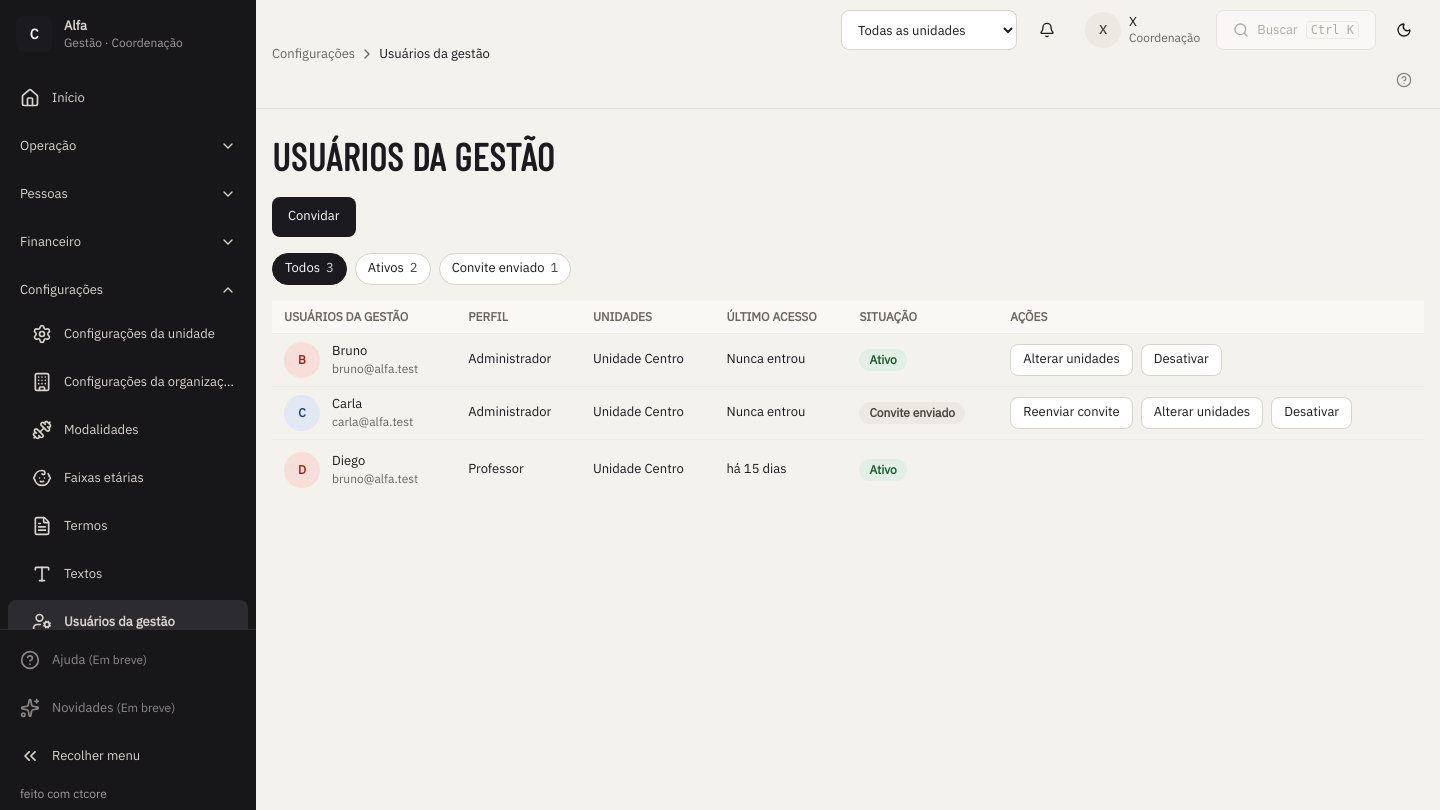
Test: UsersPage › CA8: os filtros rápidos mostram a contagem e filtram a tabela por situação
Click the button with aria-label "Convite enviado, 1" at x=505, y=268, box [439,252,571,284]
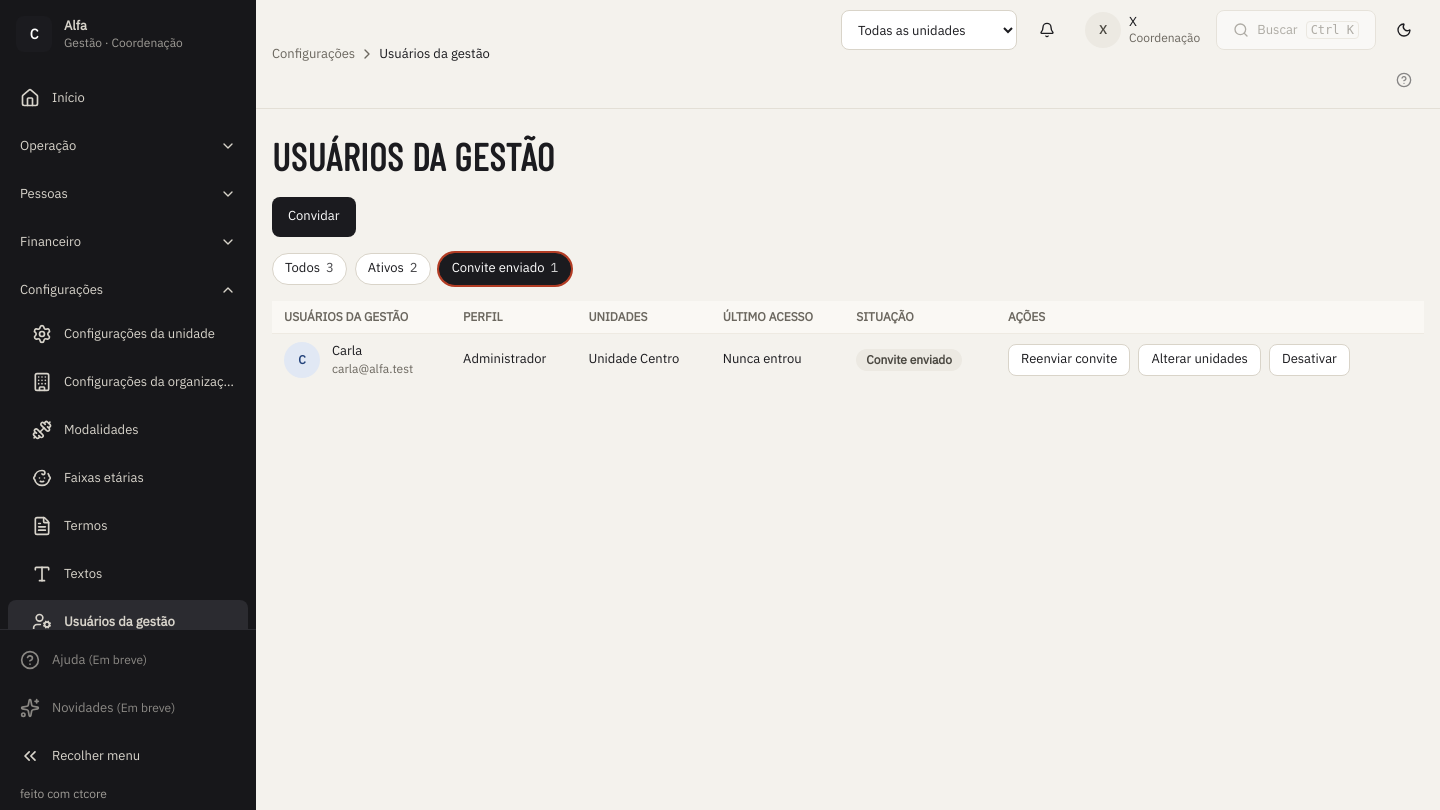
Expected: the number of rows is 2, [272,300,1424,333]; [272,333,1424,386]
Expected: the text "Bruno" is gone
